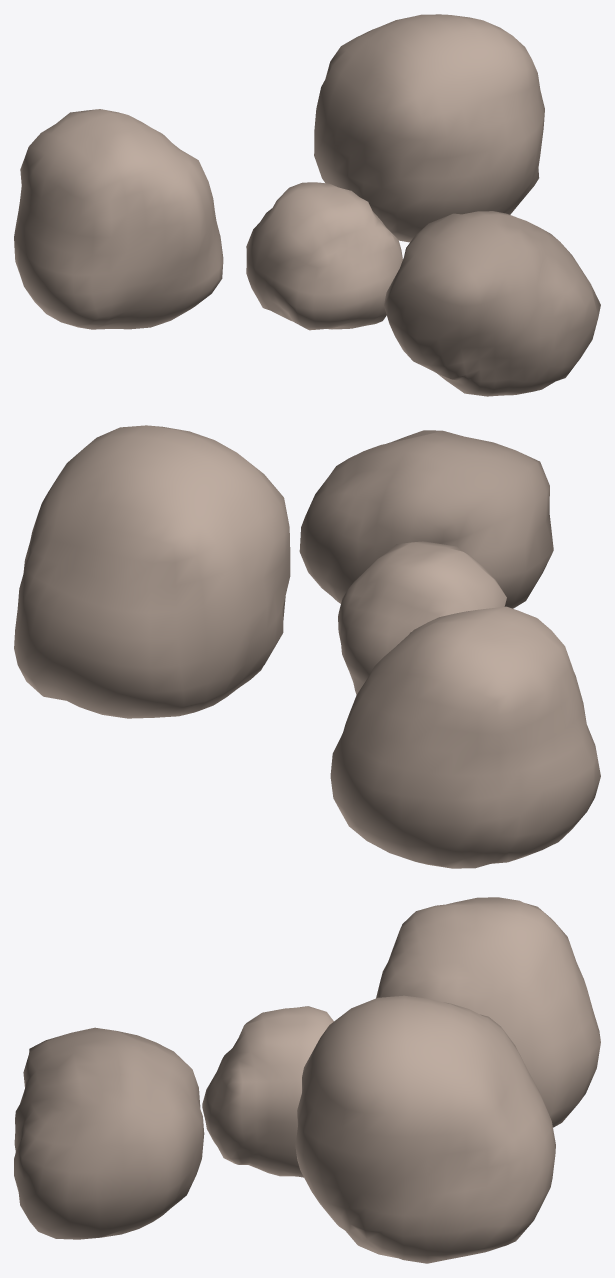
The model's file is forest rock.fbx.
3 renders of one model, top to bottom at view 1: azimuth 30°, elevation 25°; view 2: azimuth 150°, elevation 25°; view 3: azimuth 270°, elevation 25°, orthographic. The views are drawn at different scales.
Visible parts, largest first — view 1: Rock04, Rock03, Rock02, Rock01; view 2: Rock04, Rock03, Rock02, Rock01; view 3: Rock04, Rock02, Rock03, Rock01.
Part boxes in pixels (<box>): Rock04: <box>314,14,544,242</box>; Rock03: <box>14,109,223,329</box>; Rock02: <box>384,211,600,396</box>; Rock01: <box>246,182,402,330</box>; Rock04: <box>14,425,290,718</box>; Rock03: <box>330,606,600,868</box>; Rock02: <box>299,430,553,608</box>; Rock01: <box>338,541,506,694</box>; Rock04: <box>295,995,555,1263</box>; Rock02: <box>14,1027,204,1239</box>; Rock03: <box>376,897,600,1127</box>; Rock01: <box>202,1006,333,1177</box>.
Bounding box in the file's own units: 49.26 × 24.78 × 48.29.
